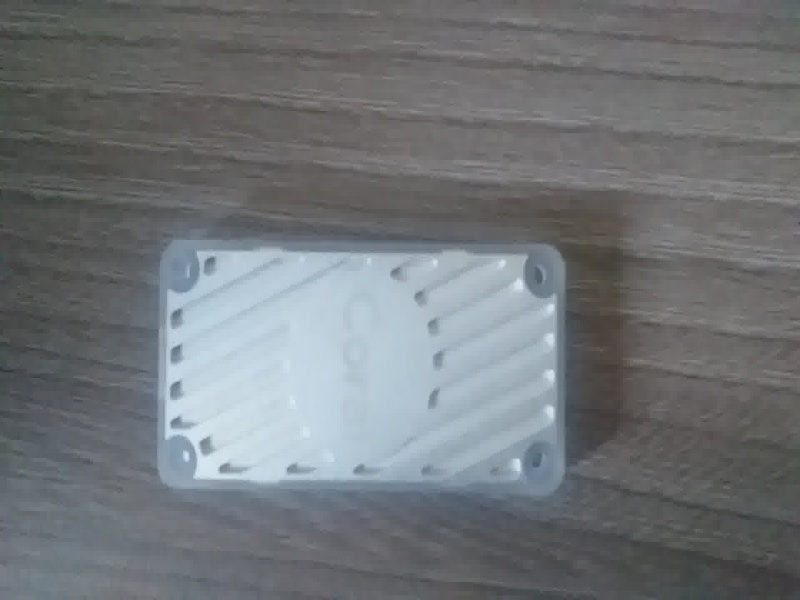coral: (142, 221, 576, 518)
